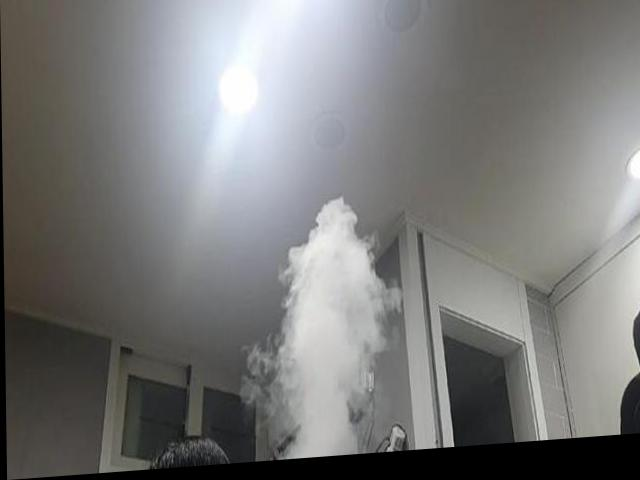smoke: (256, 169, 404, 465)
